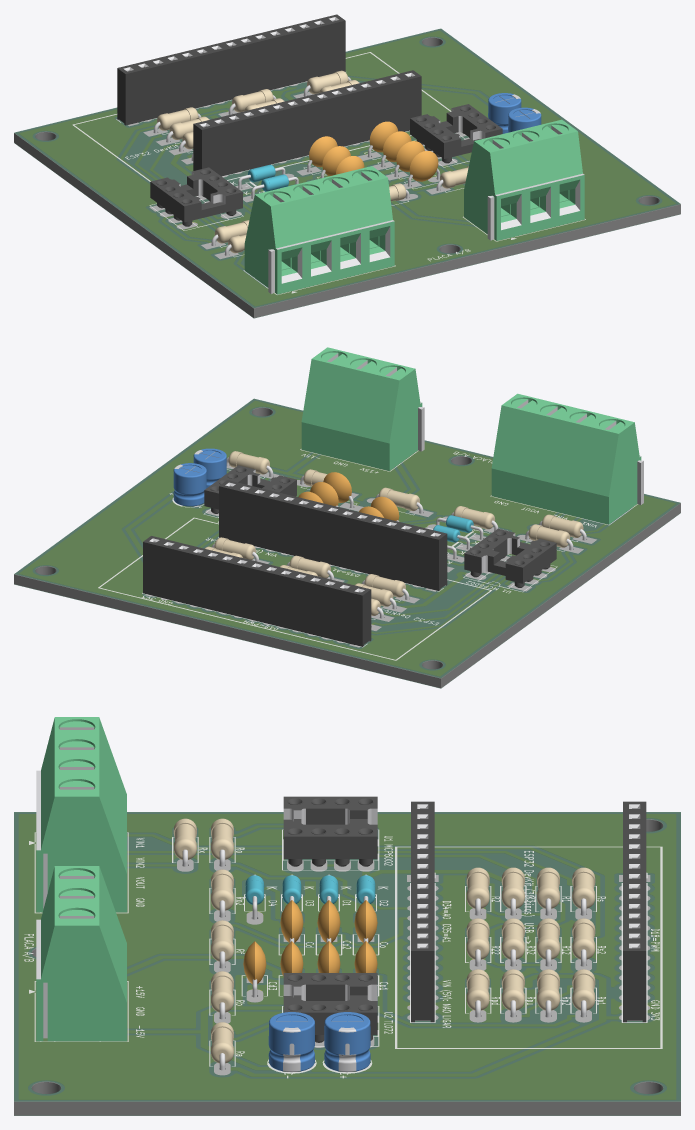
Rendered from board_ab.glb.
The picture shows the model from 3 angles, top to bottom: view 1: azimuth 30°, elevation 25°; view 2: azimuth 150°, elevation 25°; view 3: azimuth 270°, elevation 25°; orthographic projection. The views are drawn at different scales.
Parts seen in each view (by area): view 1: =>[0:1:1:13], =>[0:1:1:10], J1, J4, =>[0:1:1:15], J5, J3, U1, U2, =>[0:1:1:11], =>[0:1:1:12], C+ (+15 smaller); view 2: =>[0:1:1:13], =>[0:1:1:10], J1, J4, J5, =>[0:1:1:15], J3, U1, =>[0:1:1:12], =>[0:1:1:11], U2, C+ (+11 smaller); view 3: =>[0:1:1:13], =>[0:1:1:10], =>[0:1:1:15], J3, J1, =>[0:1:1:12], U1, J5, J4, =>[0:1:1:11], U2, C+ (+25 smaller).
Part boxes in pixels (x1,y1,x2,y2): =>[0:1:1:13]: (14, 28, 680, 307); =>[0:1:1:10]: (19, 31, 675, 305); J1: (244, 166, 394, 294); J4: (117, 14, 345, 125); =>[0:1:1:15]: (14, 29, 680, 317); J5: (193, 70, 421, 176); J3: (464, 119, 584, 240); U1: (150, 167, 242, 226); U2: (410, 104, 502, 163); =>[0:1:1:11]: (128, 81, 469, 259); =>[0:1:1:12]: (72, 52, 585, 294); C+: (488, 93, 521, 133); =>[0:1:1:13]: (14, 398, 680, 678); =>[0:1:1:10]: (19, 401, 674, 675); J1: (491, 393, 643, 524); J4: (143, 536, 371, 646); J5: (219, 480, 447, 590); =>[0:1:1:15]: (14, 399, 680, 688); J3: (301, 347, 424, 470); U1: (464, 528, 556, 587); =>[0:1:1:12]: (98, 449, 637, 660); =>[0:1:1:11]: (146, 465, 596, 647); U2: (204, 465, 296, 513); C+: (173, 463, 206, 506); =>[0:1:1:13]: (14, 812, 680, 1101); =>[0:1:1:10]: (19, 814, 675, 1099); =>[0:1:1:15]: (14, 813, 680, 1115); J3: (36, 866, 126, 1041); J1: (36, 717, 126, 912); =>[0:1:1:12]: (22, 829, 662, 1078); U1: (283, 796, 377, 866); J5: (411, 801, 434, 1022); J4: (623, 801, 646, 1022); =>[0:1:1:11]: (177, 859, 650, 1075); U2: (283, 973, 377, 1042); C+: (324, 1012, 370, 1072).
Bounding box in the file's own units: 0.074 × 0.0176 × 0.072.
